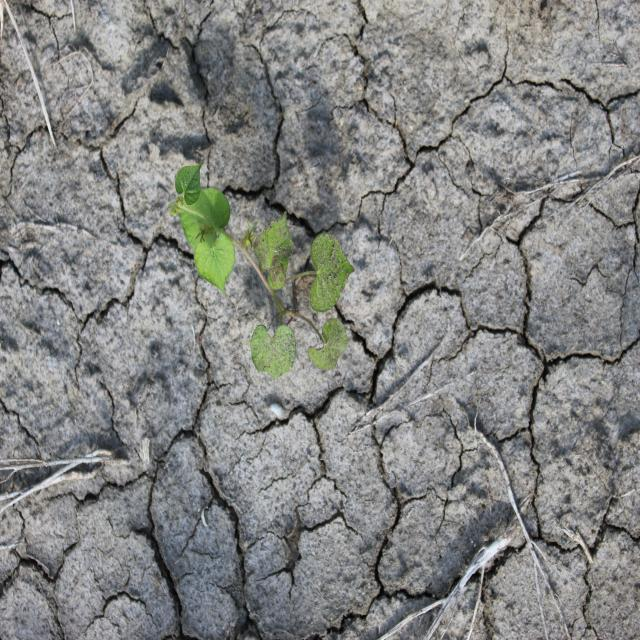MorningGlory: (166, 159, 356, 382)
